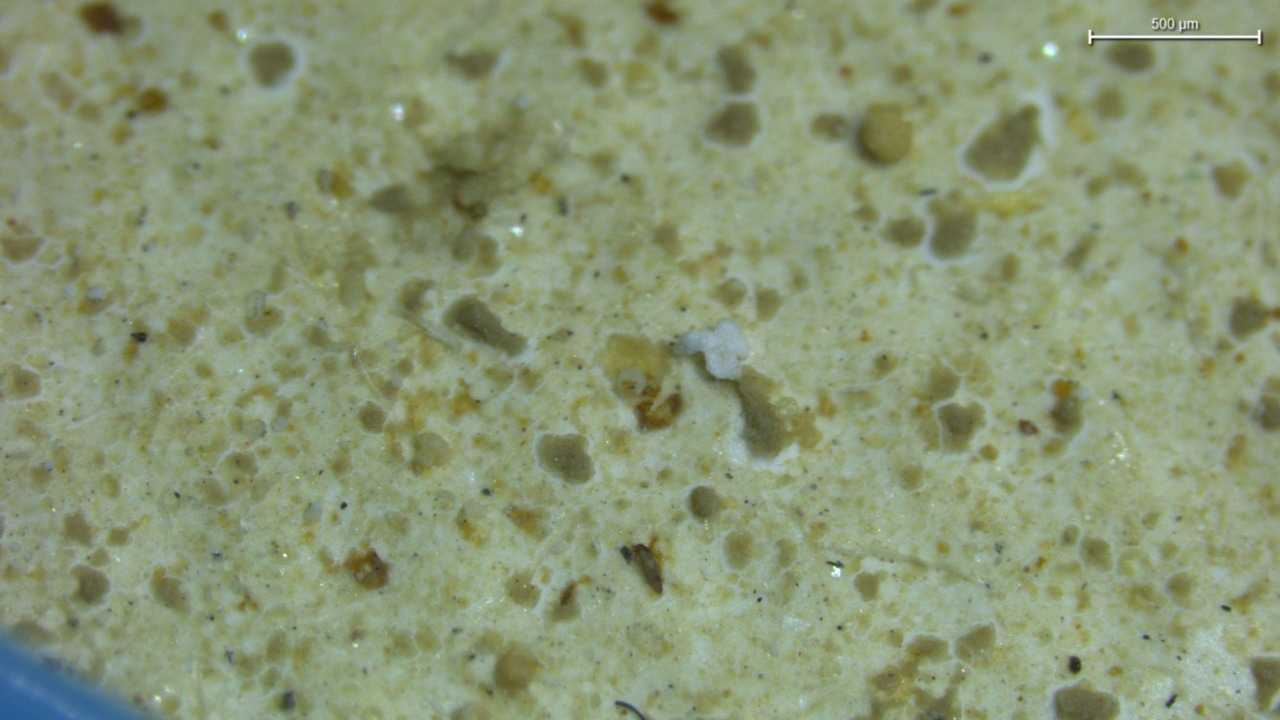microplastic_fragment: (673, 319, 748, 380)
